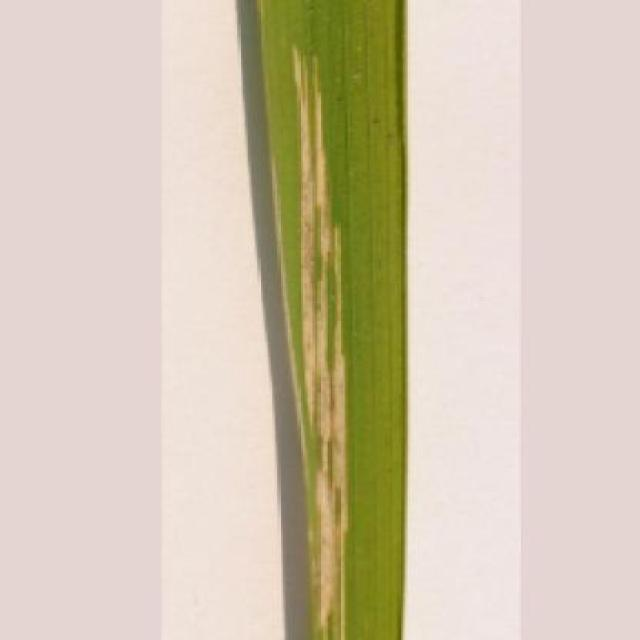Brown_Spot: (253, 0, 413, 640)
